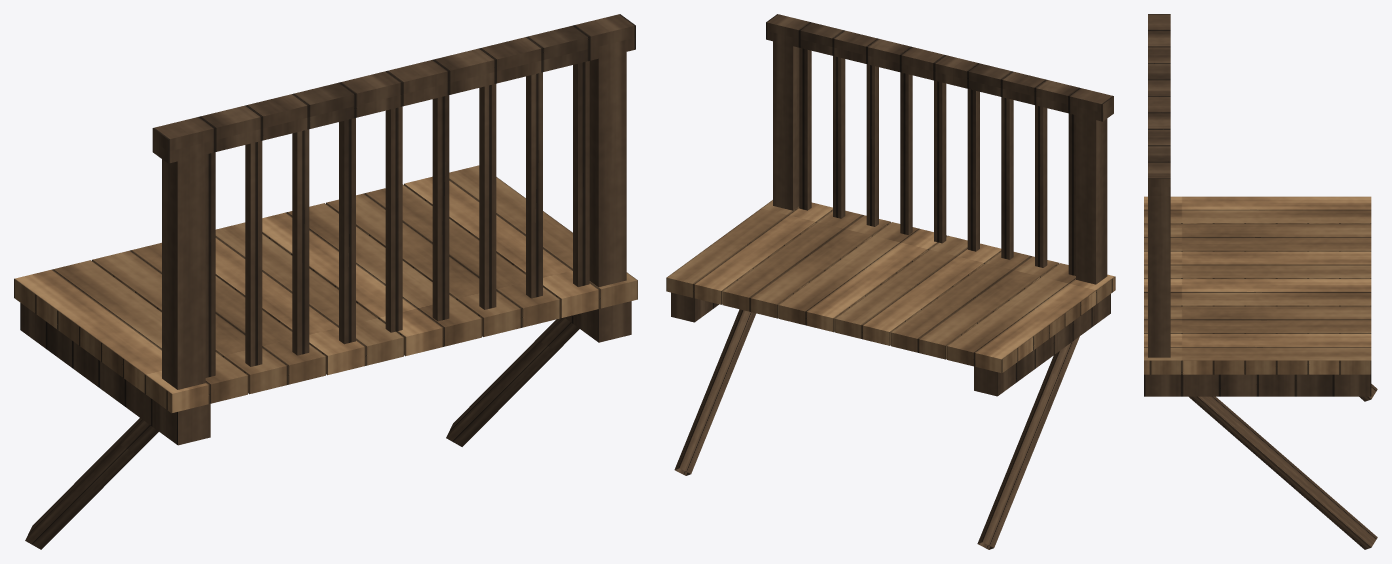
File: Gallery_Wood_1.gltf
3 views of the same model, side by side, from view 1: azimuth 30°, elevation 25°; view 2: azimuth 150°, elevation 25°; view 3: azimuth 270°, elevation 25° (orthographic). The views are drawn at different scales.
Parts seen in each view (by area): view 1: Gallery_Wood_1; view 2: Gallery_Wood_1; view 3: Gallery_Wood_1.
Part boxes in pixels (x1=…): Gallery_Wood_1: x1=14, y1=14, x2=637, y2=549; Gallery_Wood_1: x1=666, y1=14, x2=1115, y2=549; Gallery_Wood_1: x1=1144, y1=14, x2=1377, y2=549.
Size of the model in its own units: 2 by 2.15 by 1.2.
2 materials, 2 textured.
